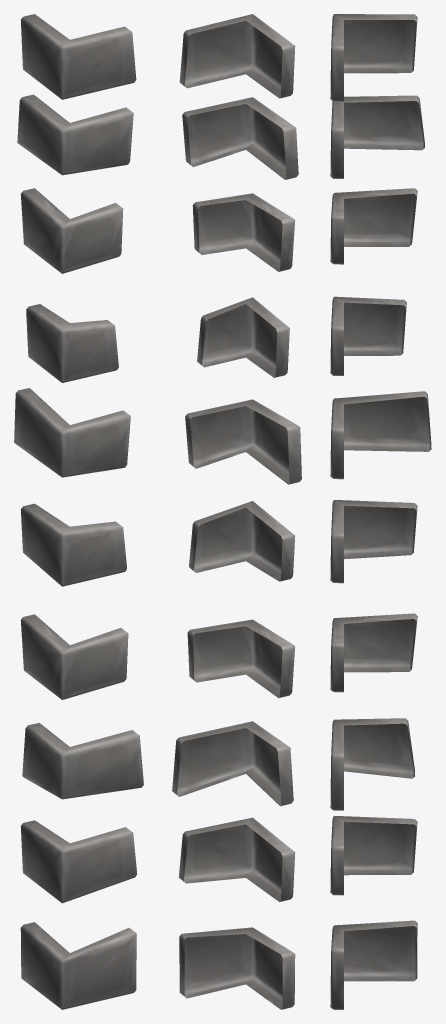
File: PropTrimFacade01_7.FBX
The picture shows the model from 3 angles, left to right: view 1: azimuth 30°, elevation 25°; view 2: azimuth 210°, elevation 25°; view 3: azimuth 270°, elevation 25°; orthographic projection.
Visible parts, largest first — view 1: PropTrimFacade01_7; view 2: PropTrimFacade01_7; view 3: PropTrimFacade01_7.
Part boxes in pixels (x1=…): PropTrimFacade01_7: x1=14, y1=14, x2=143, y2=1009; PropTrimFacade01_7: x1=172, y1=14, x2=301, y2=1009; PropTrimFacade01_7: x1=330, y1=14, x2=431, y2=1009.
Size of what is drawn, in the model's own units: 0.3174 by 3.5 by 0.3335.
